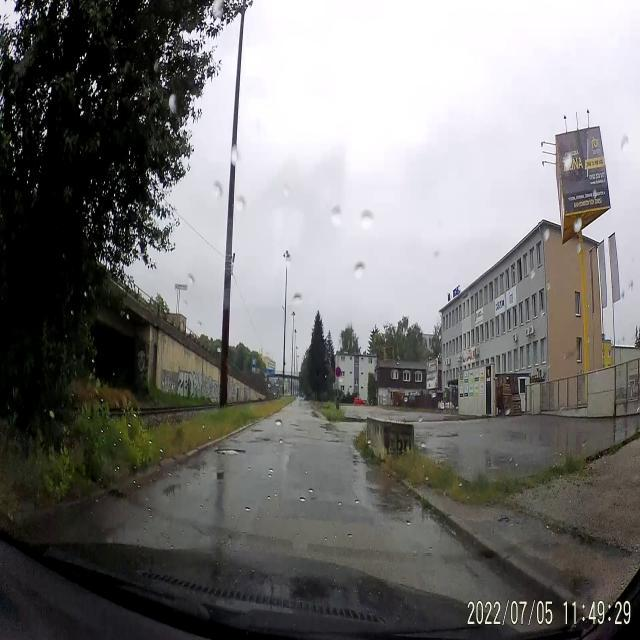Pothole: (213, 444, 246, 459), (250, 426, 264, 434), (261, 434, 271, 444), (294, 428, 310, 433), (285, 441, 294, 446), (290, 422, 300, 426)
